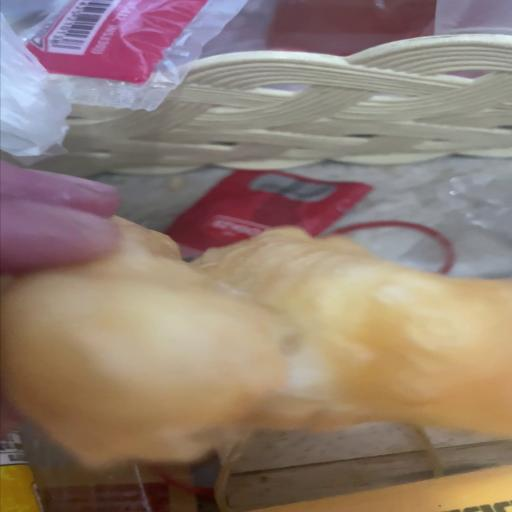street_golden_defect: (0, 218, 511, 477)
